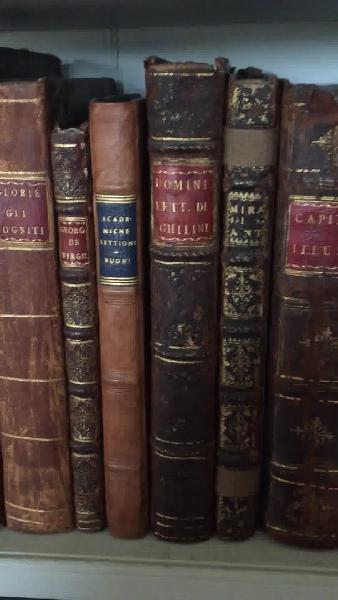Aa6-34: (43, 118, 101, 541)
Aa6-35: (79, 91, 145, 539)
Aa6-36: (140, 62, 223, 540)
Aa6-37: (221, 59, 273, 528)
Aa6-38: (271, 77, 338, 555)
